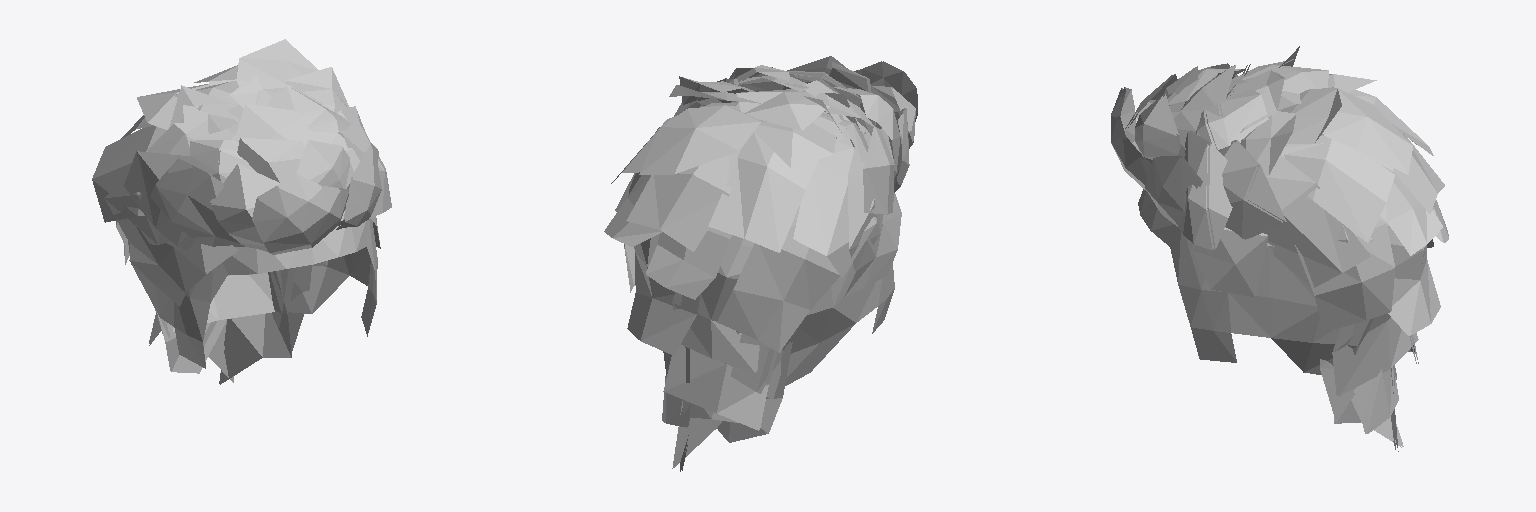
Rendered from characterhairs.obj.
3 renders of one model, left to right at view 1: azimuth 30°, elevation 25°; view 2: azimuth 150°, elevation 25°; view 3: azimuth 270°, elevation 25°, orthographic.
Bounding box in the file's own units: 0.1976 × 0.288 × 0.2462.